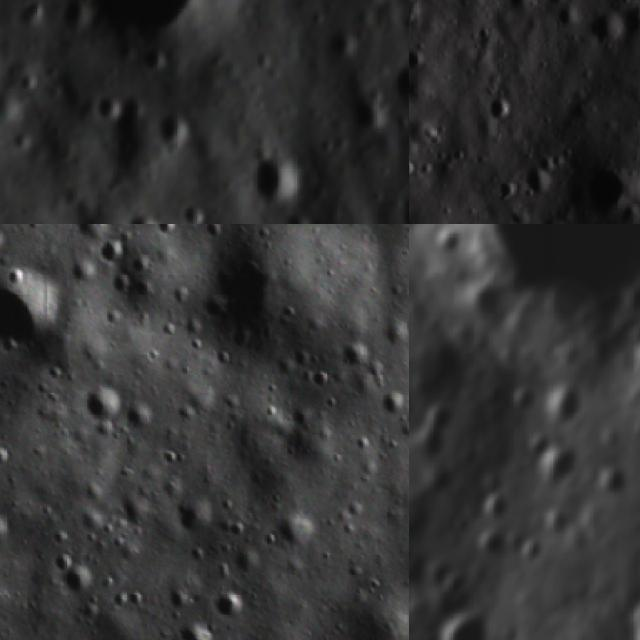crater: (461, 224, 640, 345), (55, 0, 252, 94), (0, 272, 67, 358), (244, 130, 310, 208), (575, 152, 640, 224), (576, 2, 630, 60), (154, 100, 200, 158), (338, 86, 385, 140), (531, 446, 579, 496), (542, 381, 585, 432), (176, 491, 224, 536), (517, 158, 560, 203), (437, 614, 500, 640), (58, 554, 97, 594), (469, 284, 506, 326), (409, 427, 450, 464), (87, 393, 130, 427), (386, 42, 409, 103), (111, 199, 166, 224), (471, 531, 508, 568), (482, 93, 519, 128), (214, 589, 252, 623), (599, 463, 634, 499), (609, 2, 640, 42), (508, 379, 538, 416), (422, 401, 457, 432), (478, 494, 512, 525), (516, 539, 548, 566), (409, 43, 430, 77), (0, 507, 12, 561), (409, 149, 425, 186), (409, 536, 417, 573)
